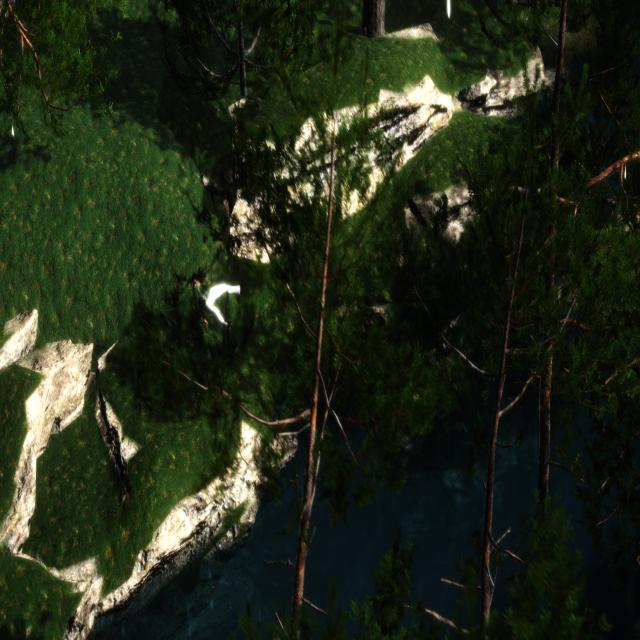Human: (192, 263, 250, 336)
